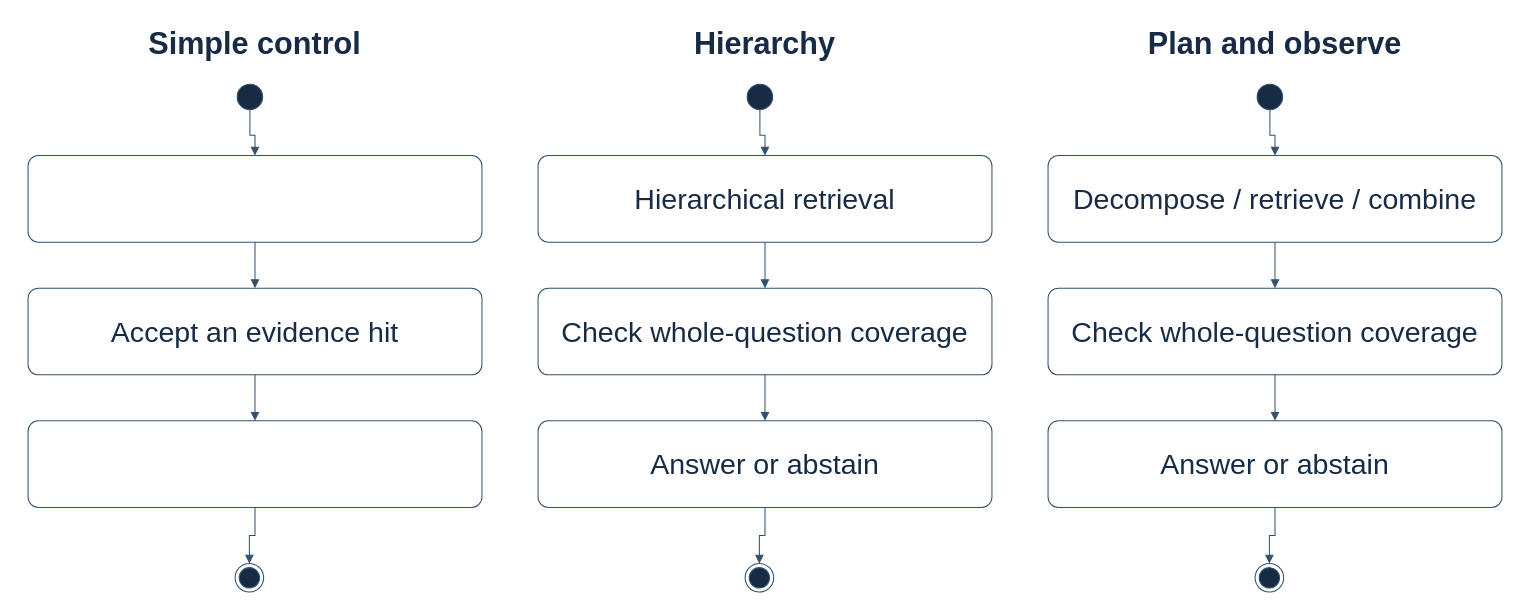
The diagram is 1529 pixels wide and 610 high, and some of its shapes have lost their labels. Each missing label, with the centre of its shape:
Extract a response: the point at 254,463
Keyword retrieval: the point at 254,198
